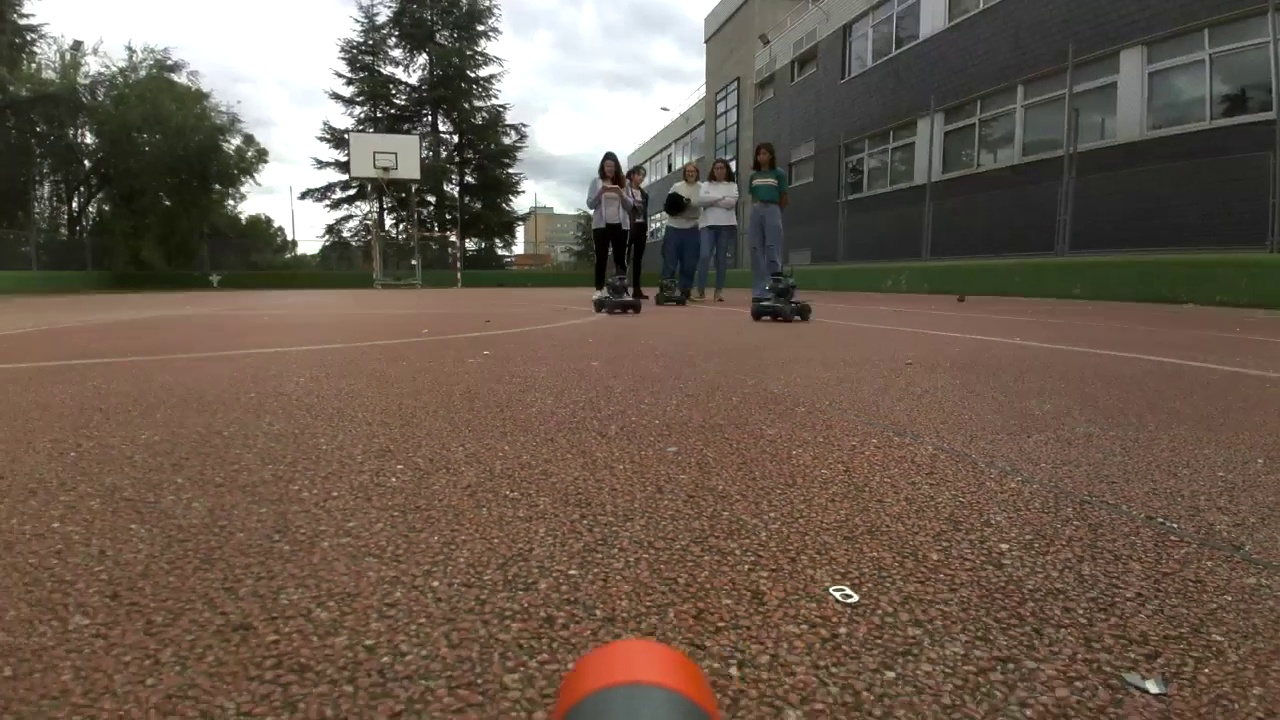robot: (752, 271, 812, 323), (592, 275, 642, 315), (656, 277, 683, 306)
